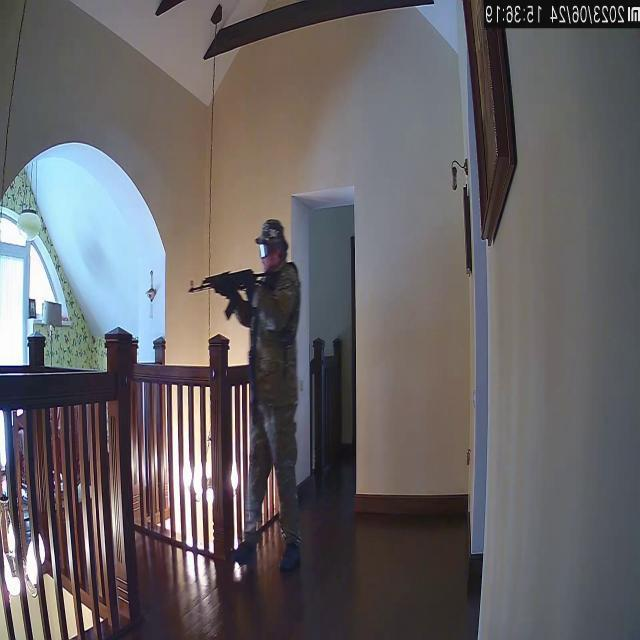gun: (184, 216, 300, 574), (186, 264, 280, 300)
